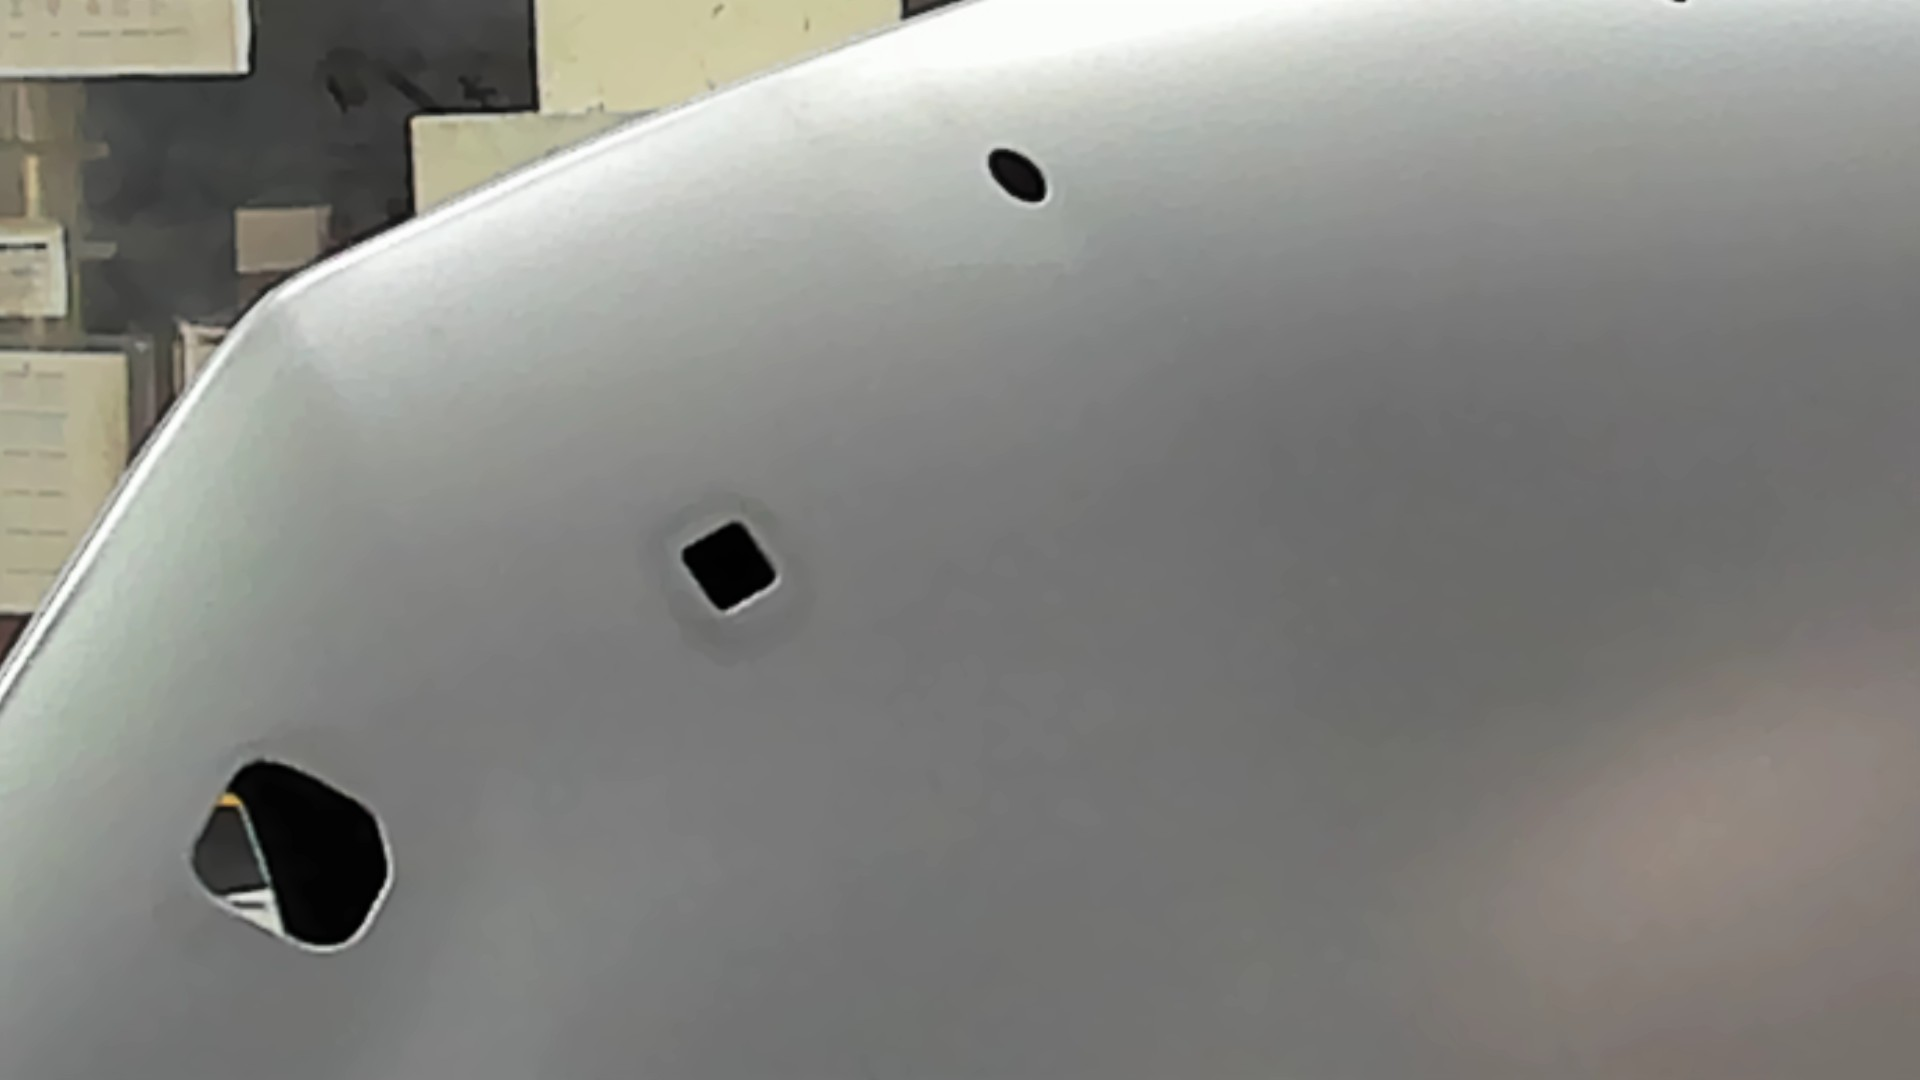chico: (986, 142, 1052, 207)
grande: (185, 758, 398, 957)
mediano: (678, 516, 783, 618)
